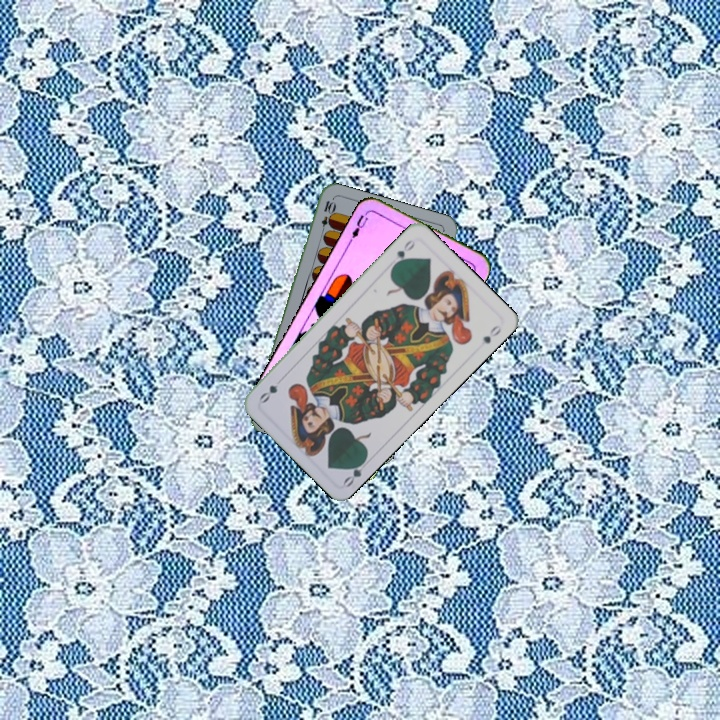E10: (317, 197, 336, 237)
EU: (346, 207, 372, 244)
GO: (339, 454, 370, 490), (389, 236, 418, 270)
